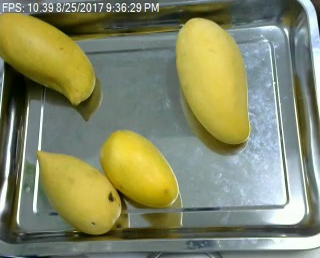Mango: (170, 11, 256, 151), (0, 3, 100, 114), (96, 122, 184, 216), (35, 146, 118, 236)
